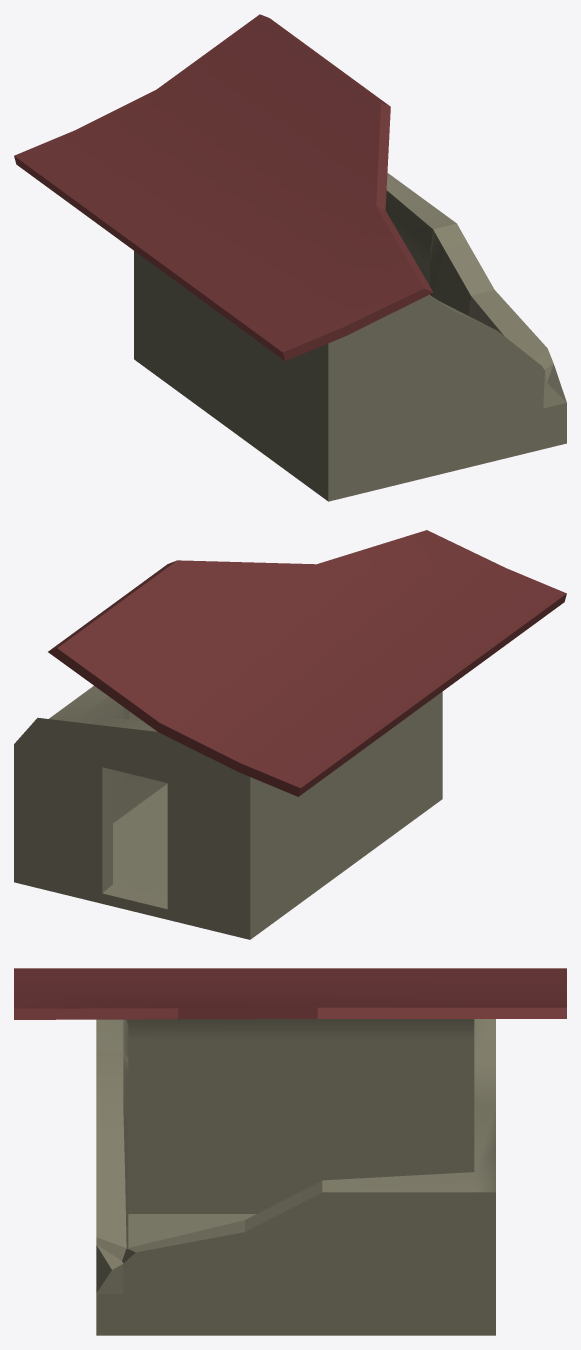
The model's file is plzwrk.fbx.
3 views of the same model, one above another, from view 1: azimuth 30°, elevation 25°; view 2: azimuth 150°, elevation 25°; view 3: azimuth 270°, elevation 25° (orthographic). The views are drawn at different scales.
Parts seen in each view (by area): view 1: pCube3, pCube2; view 2: pCube3, pCube2; view 3: pCube2, pCube3.
Part boxes in pixels (left/top/right/bottom): pCube3: left=14, top=14, right=433, bottom=361; pCube2: left=134, top=173, right=566, bottom=501; pCube3: left=48, top=530, right=566, bottom=796; pCube2: left=14, top=686, right=442, bottom=939; pCube2: left=96, top=1019, right=495, bottom=1335; pCube3: left=14, top=968, right=566, bottom=1019.
Size of the model in its own units: 11.44 by 9.47 by 16.45.
